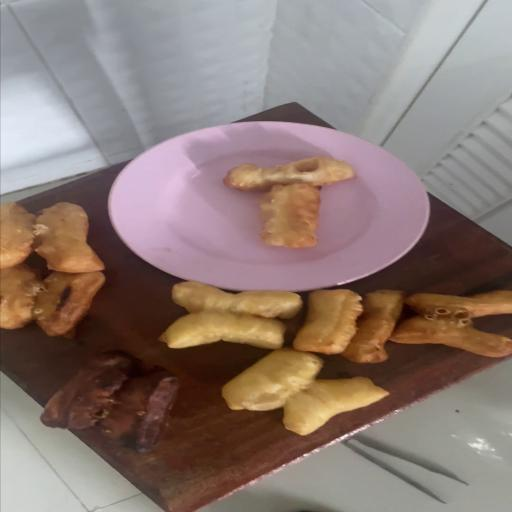street_burnt_defect: (39, 355, 175, 452), (1, 266, 100, 334)
street_golden_good: (159, 283, 388, 433), (162, 281, 303, 352), (0, 201, 103, 270)
